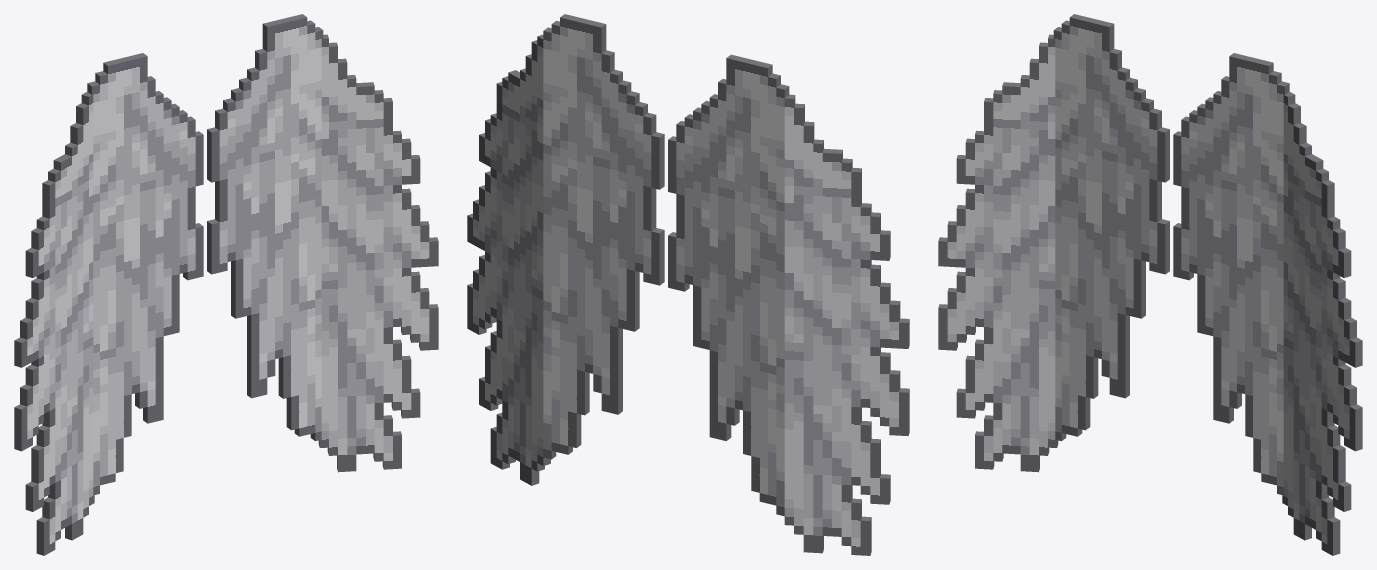
File: angel_wings_folded.glb
3 views of the same model, side by side, from view 1: azimuth 30°, elevation 25°; view 2: azimuth 150°, elevation 25°; view 3: azimuth 330°, elevation 25° (orthographic). The views are drawn at different scales.
Parts seen in each view (by area): view 1: angel_wings_folded; view 2: angel_wings_folded; view 3: angel_wings_folded.
Part boxes in pixels (x1=…): angel_wings_folded: x1=14, y1=14, x2=438, y2=555; angel_wings_folded: x1=467, y1=14, x2=909, y2=555; angel_wings_folded: x1=938, y1=14, x2=1362, y2=555.
Size of the model in its own units: 1.66 by 1.72 by 0.1843.
1 material, 1 textured.
